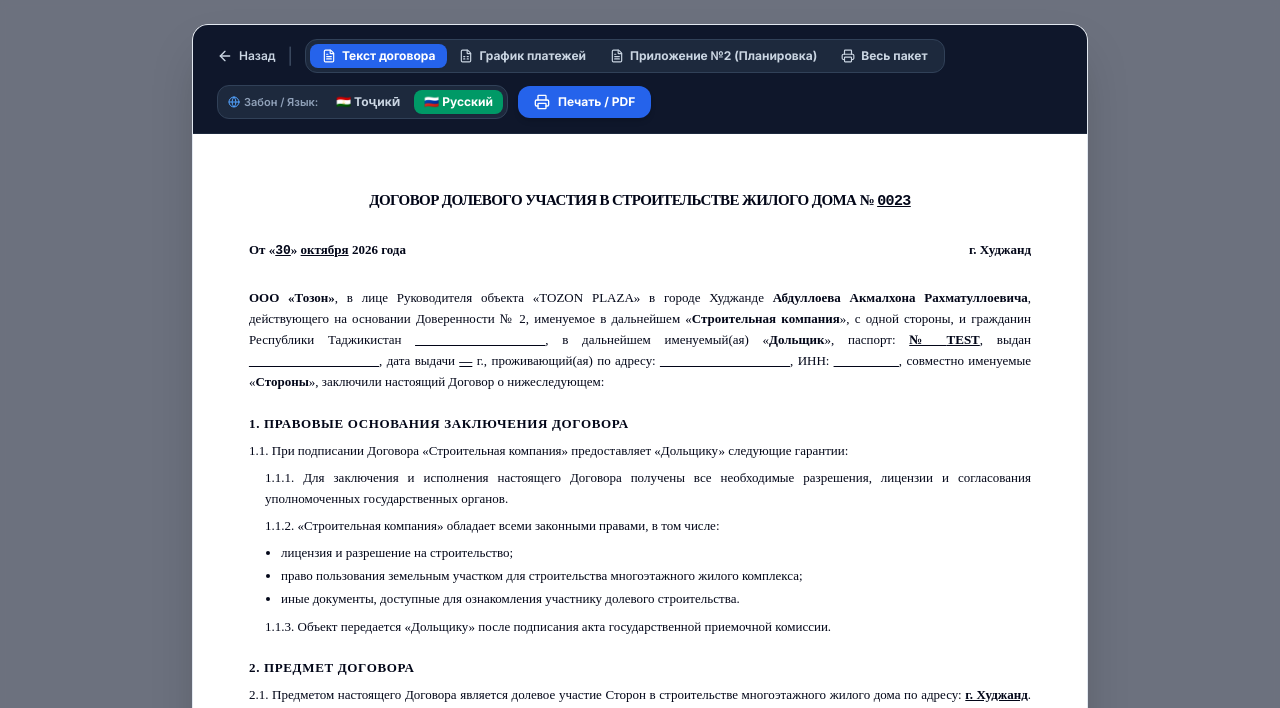
Test: prints real receipt dates and omits zero advance (RU)
This screenshot has width=1280, height=708.
Click the button "График платежей": coordinates (523, 56) 447,44 -> 598,68
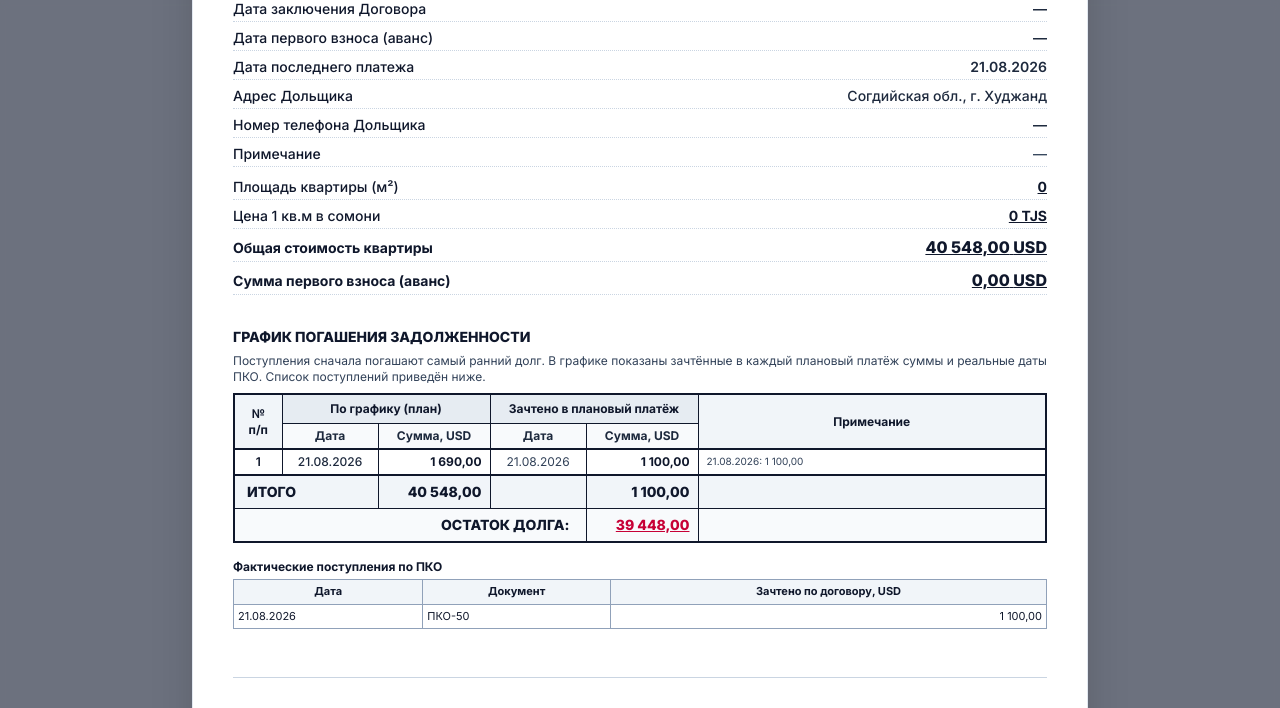
Check: the cell "1" is shown, box 234,449 -> 282,475
Check: the 2nd cell "21.08.2026" is shown, box 490,449 -> 586,475
